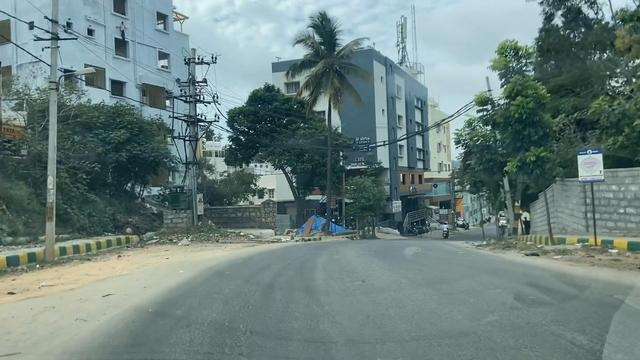RoadDamages: (393, 239, 430, 264)
